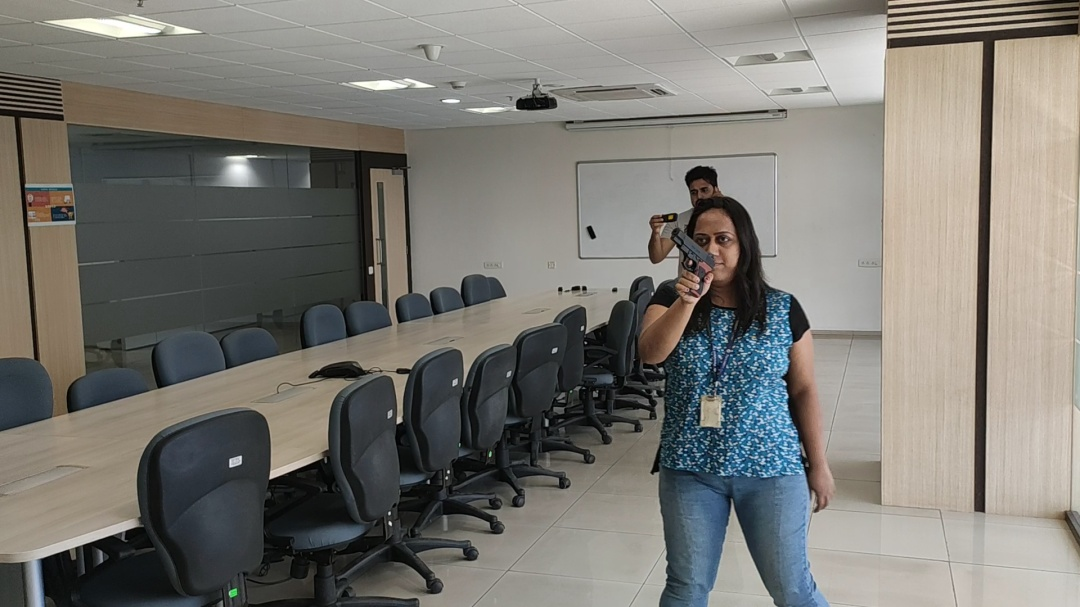gun: (671, 226, 715, 296)
